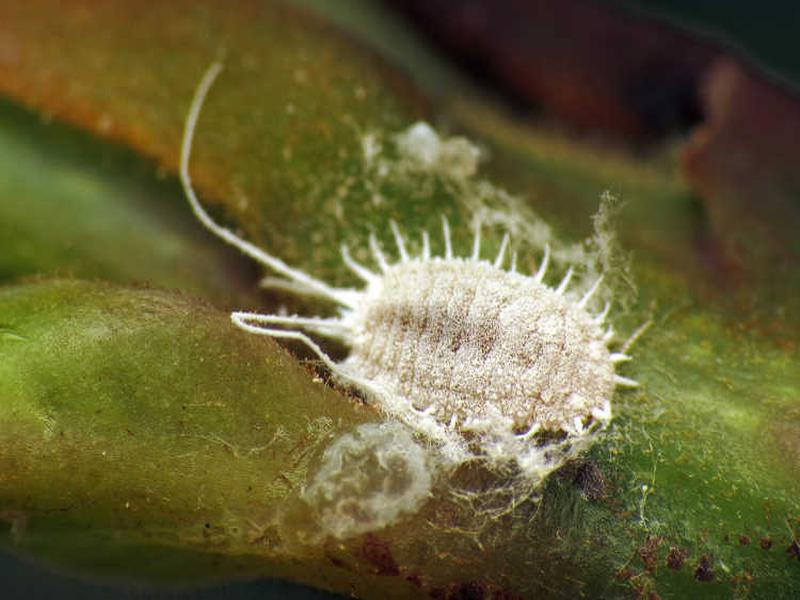Mealy_bug: (254, 242, 639, 542)
